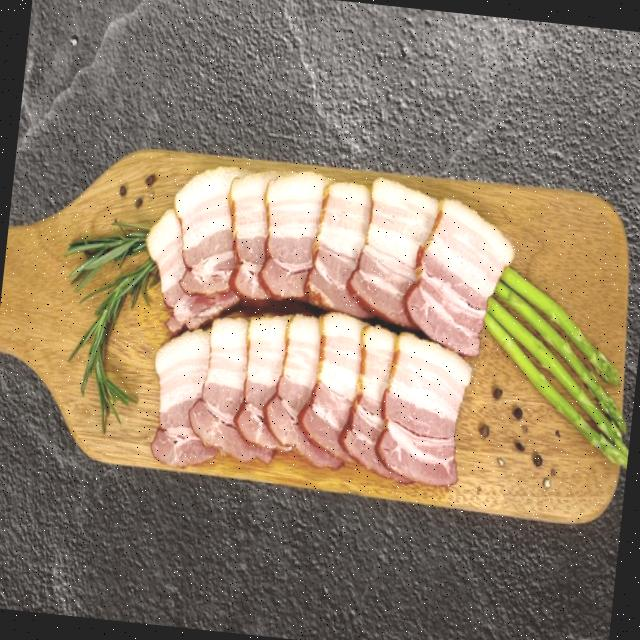meat: (102, 131, 540, 530)
